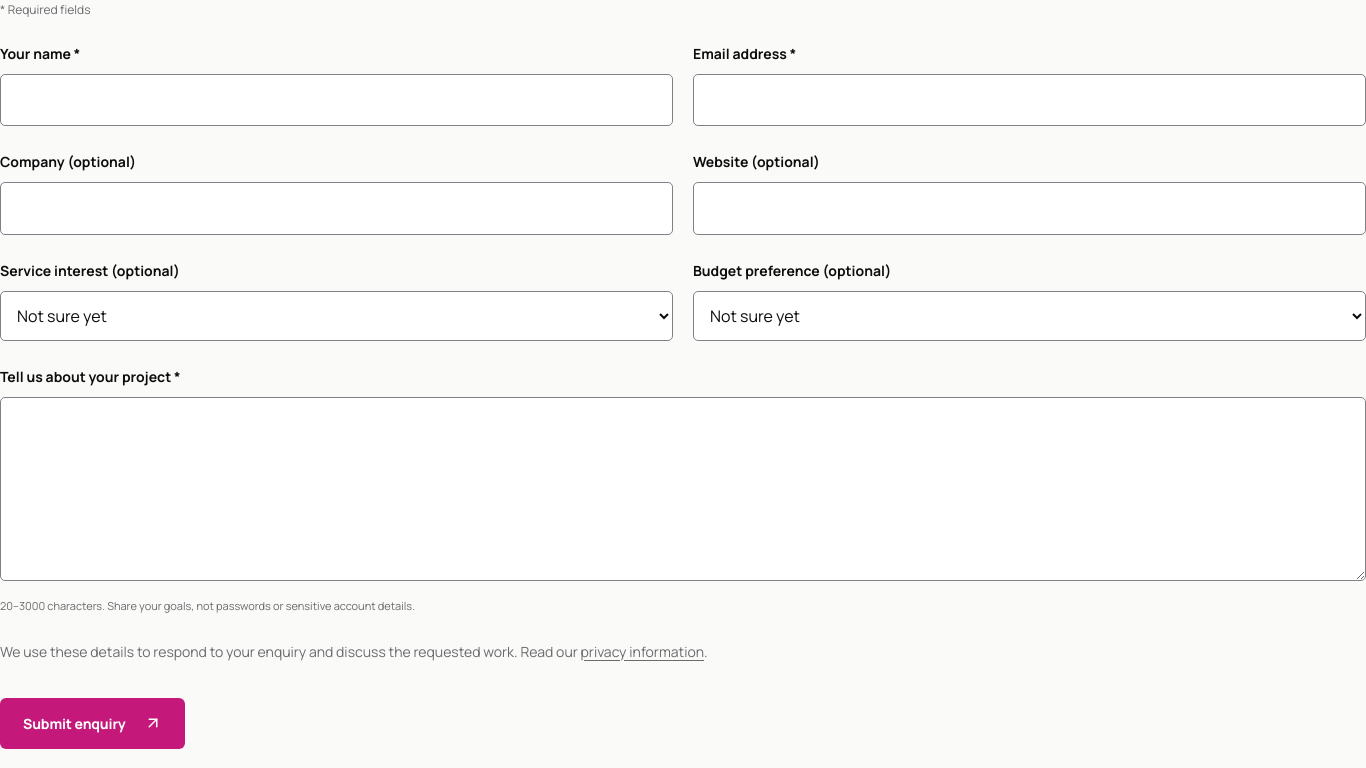
Test: contact interaction › preserves values on failure and permits explicit retry: We couldn’t submit your enquiry. Your details are still here; please try again.
Type " 李 明 " into the field labelled "Your name *" at (336, 100), box 0,74 -> 673,126
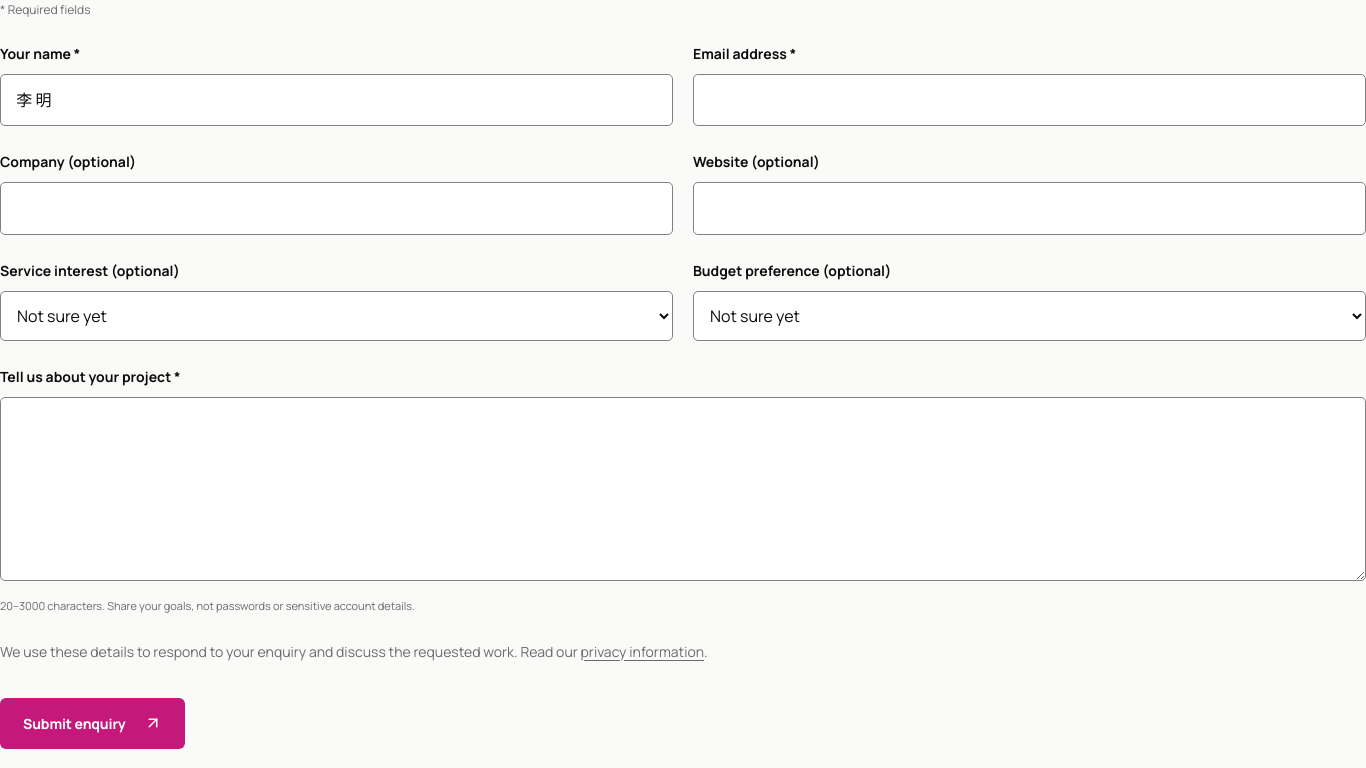
Type "person@business.test" into the field labelled "Email address *" at (1030, 100), box 693,74 -> 1365,126
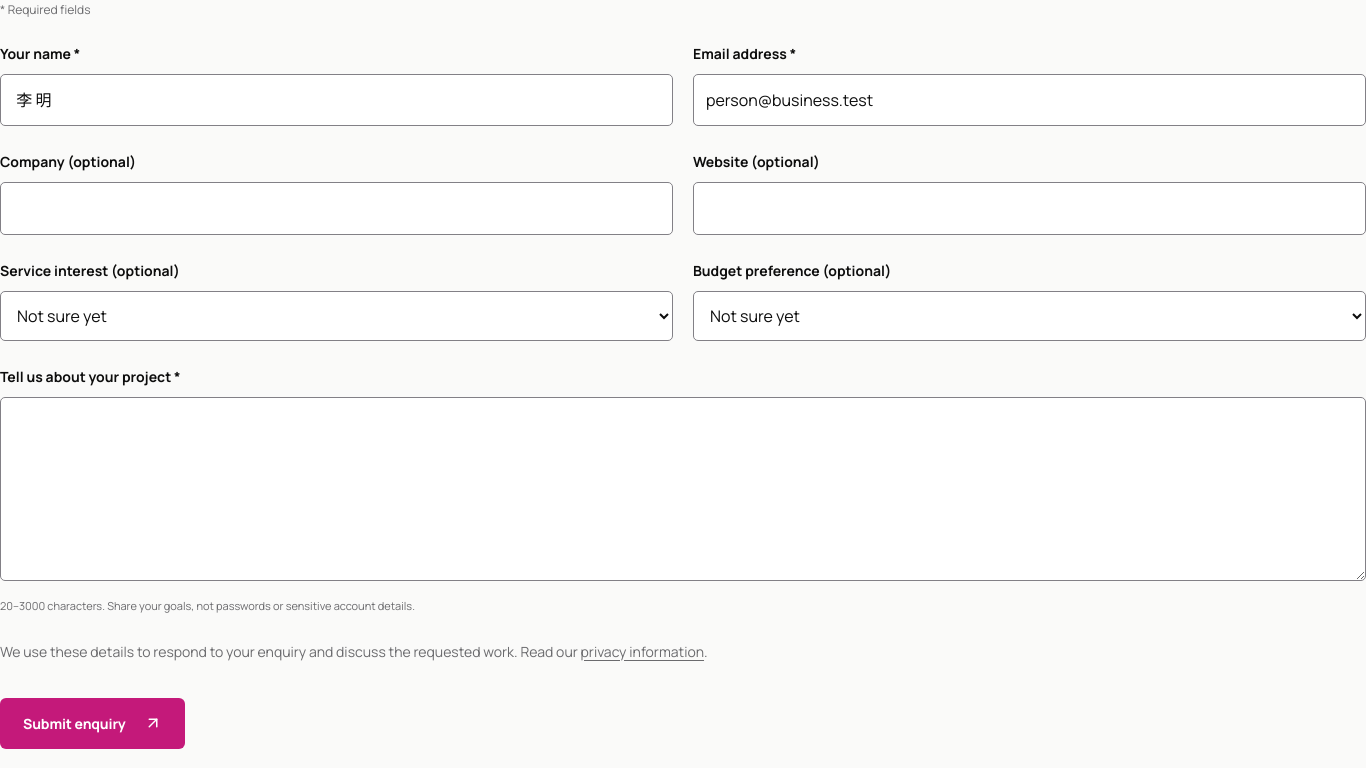
Type "We would like a clearer website and search strategy." into the text box labelled "Tell us about your project *" at (683, 489), box 0,397 -> 1365,581
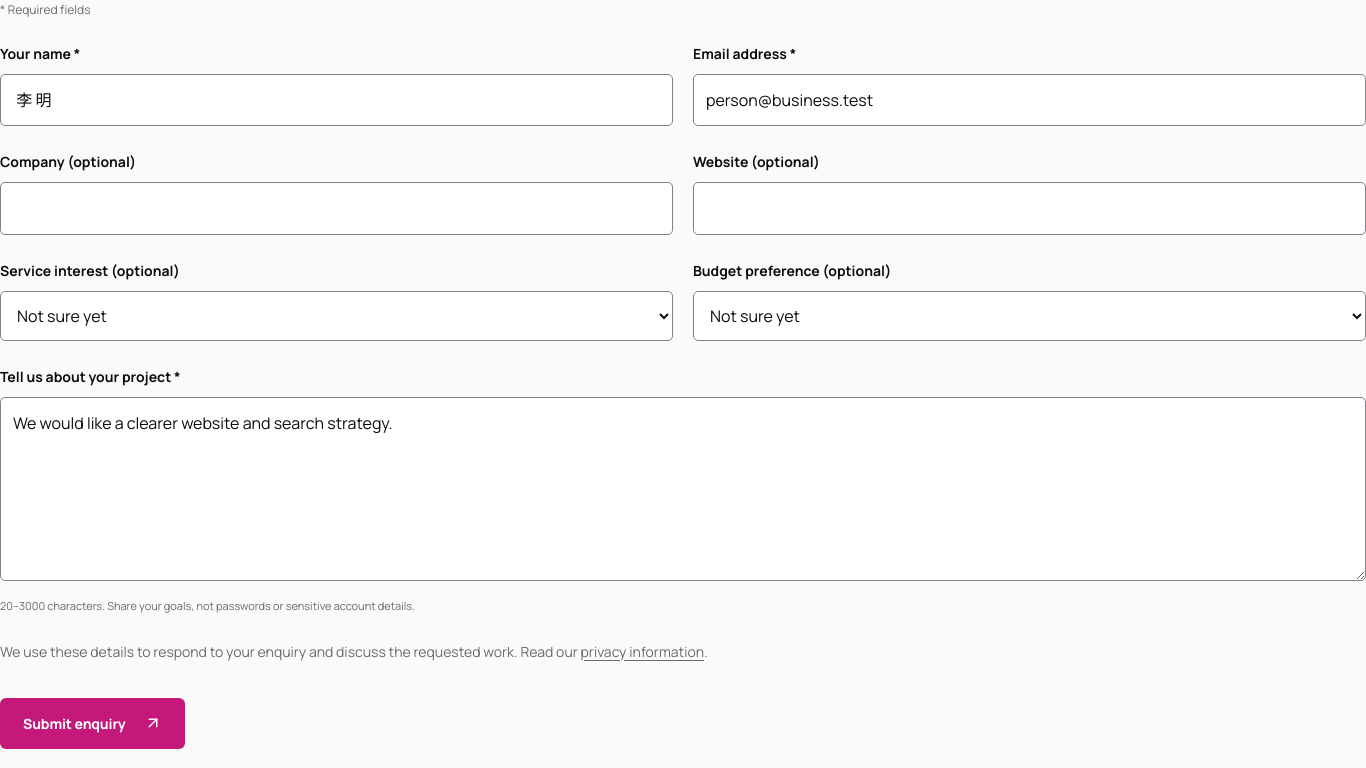
Submit the form
Submit the form
(page scrolled)
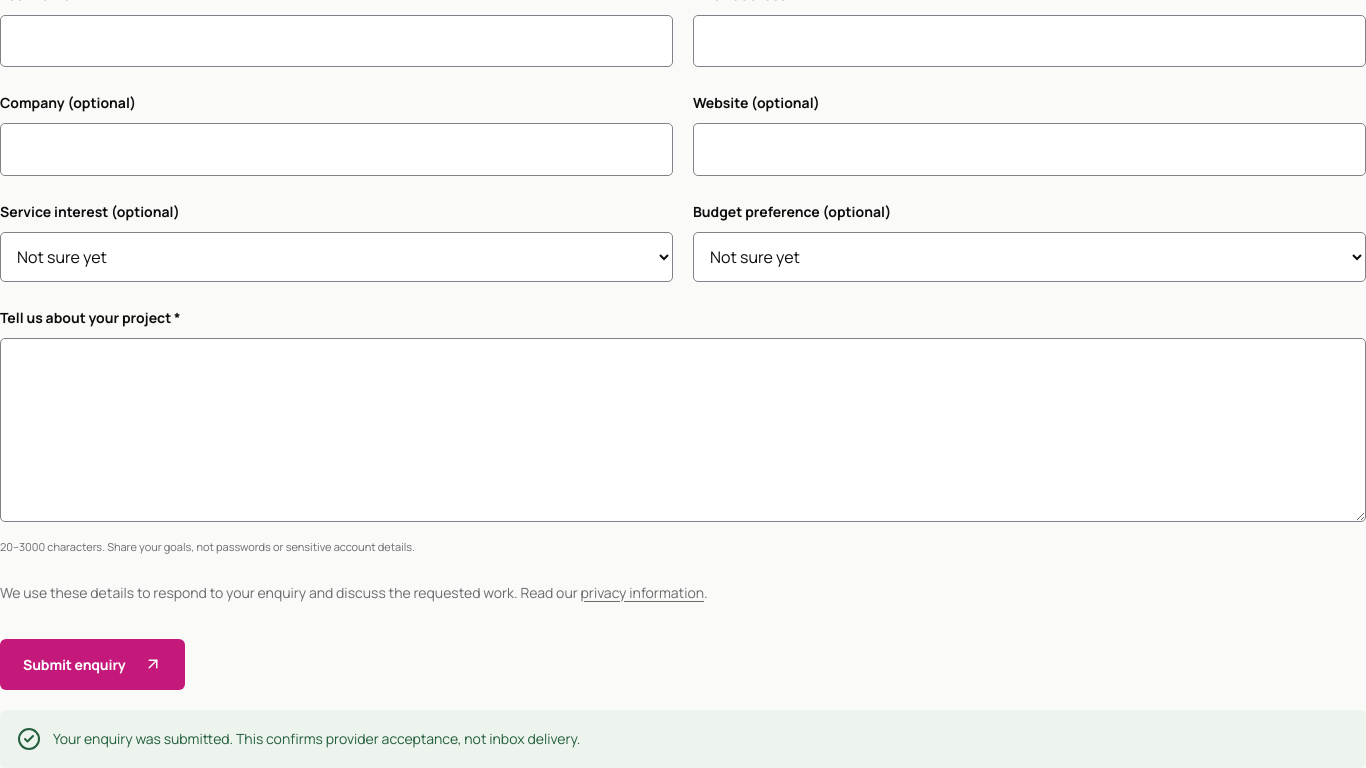
Now the message shows "Your enquiry was submitted. This confirms provider acceptance, not inbox delivery.", box 53,729 -> 580,748
